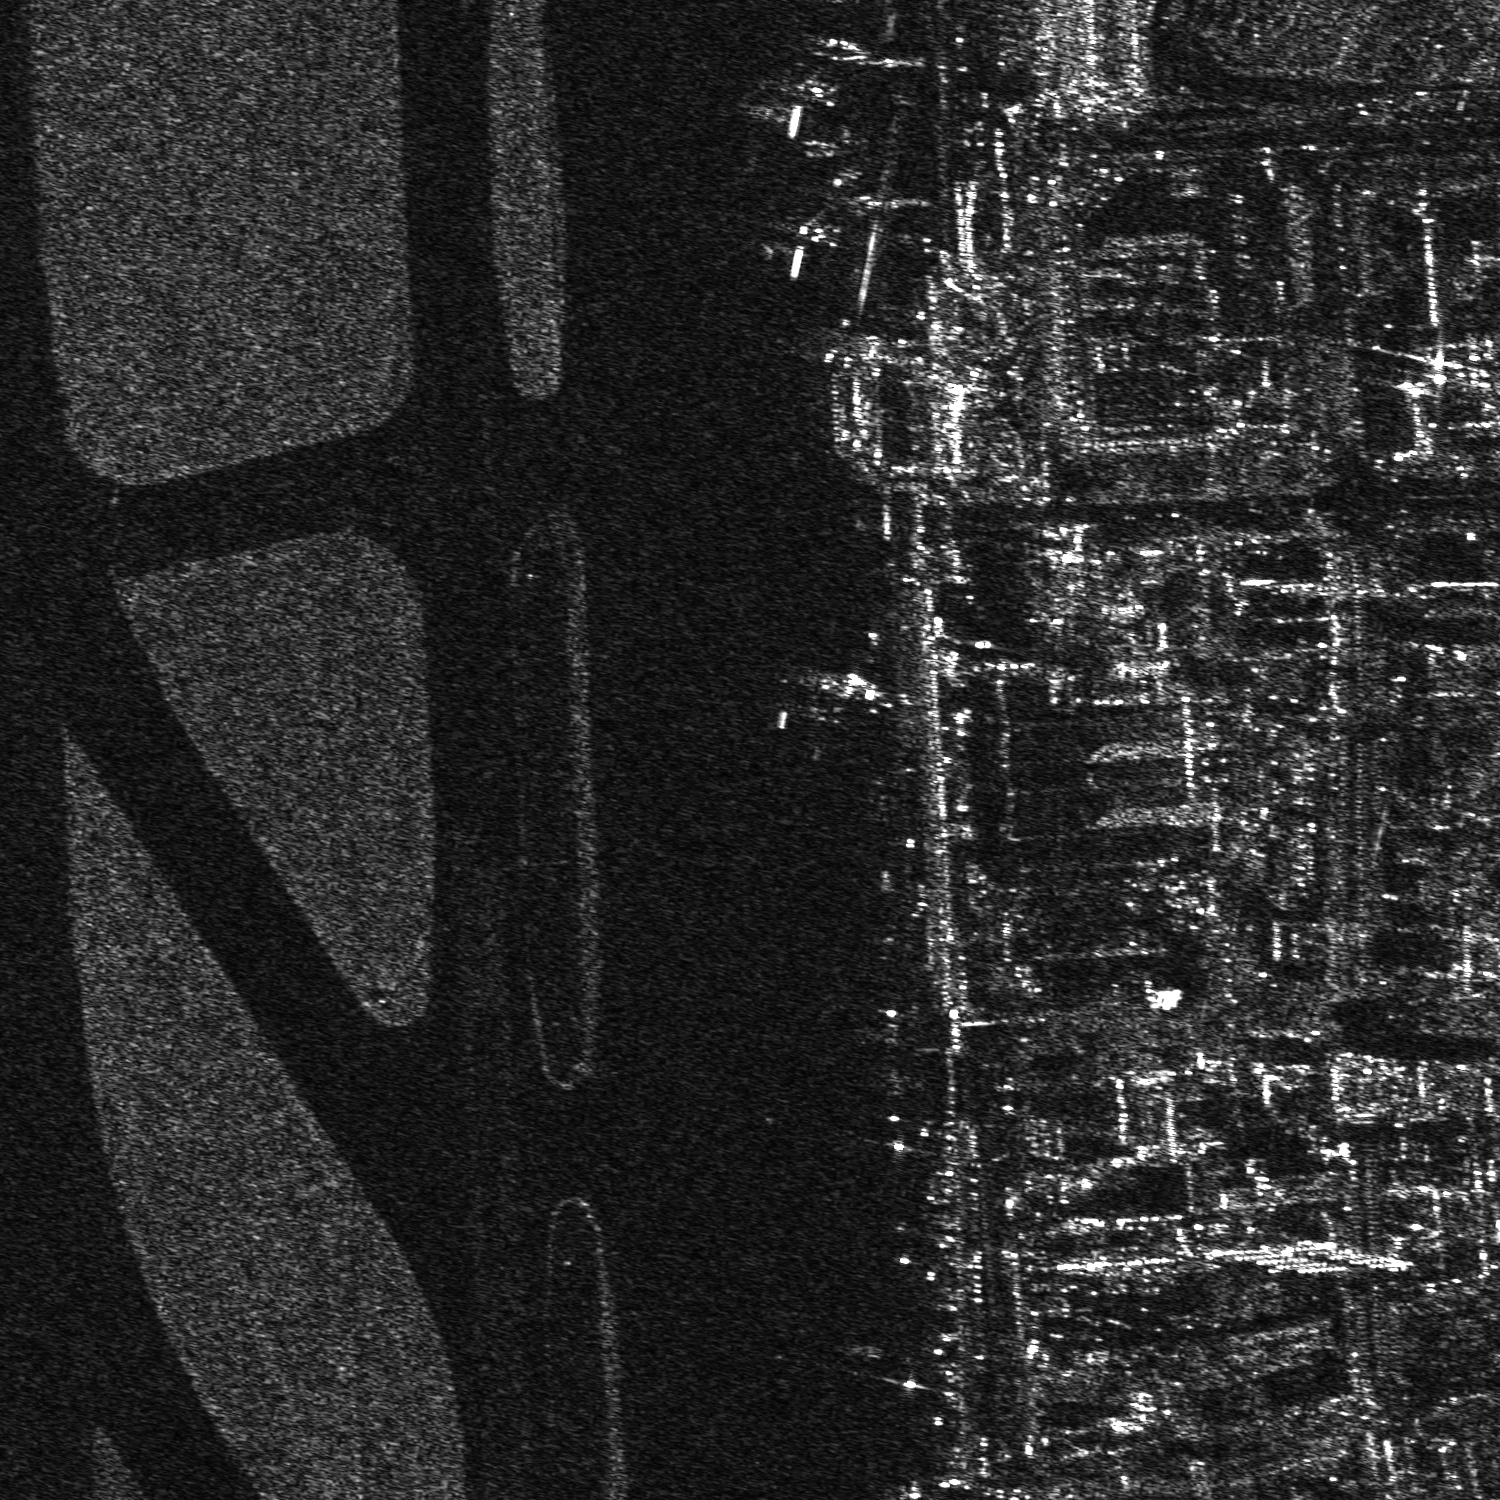A220: (766, 662, 907, 732)
